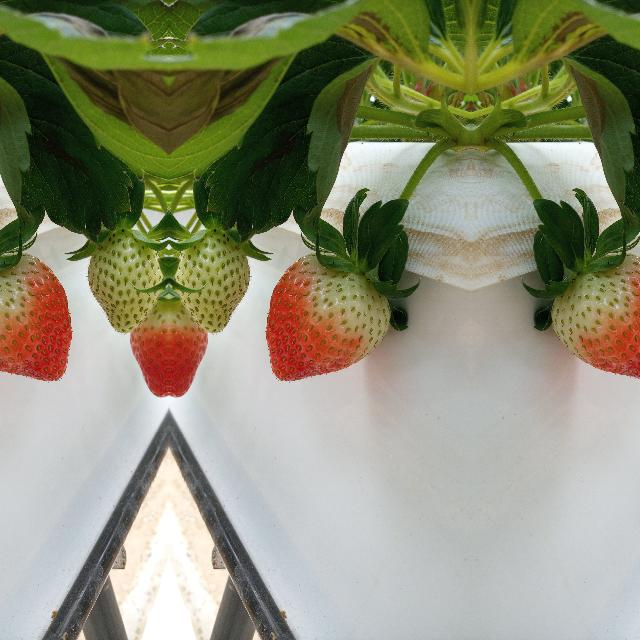Health_25: (168, 226, 258, 336), (78, 226, 168, 336)
Health_50: (264, 252, 390, 382), (551, 252, 640, 382), (0, 252, 72, 382)
Health_75: (168, 294, 212, 406), (124, 294, 168, 406)
